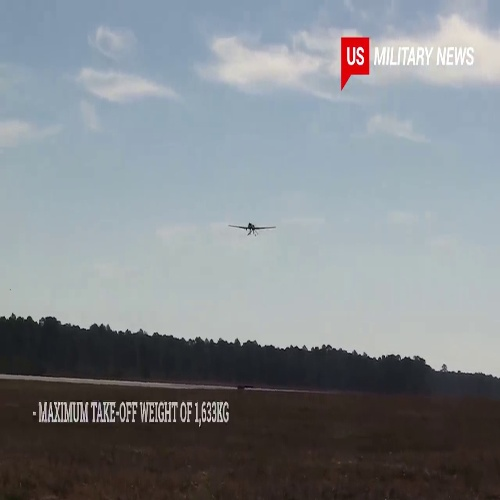uav76: (228, 219, 278, 238)
